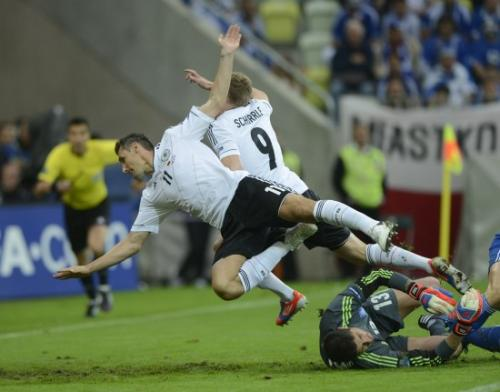10+: (1, 1, 500, 372)
down: (48, 21, 402, 304), (183, 56, 475, 328), (316, 264, 488, 371)
